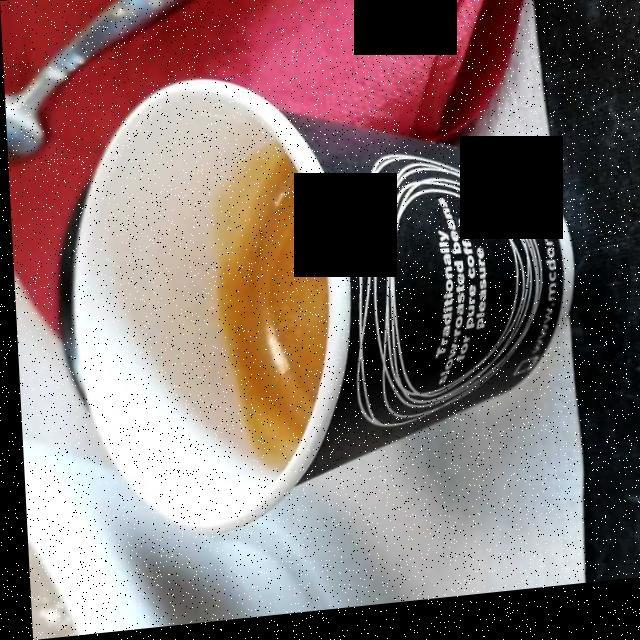coffee: (217, 164, 321, 448)
